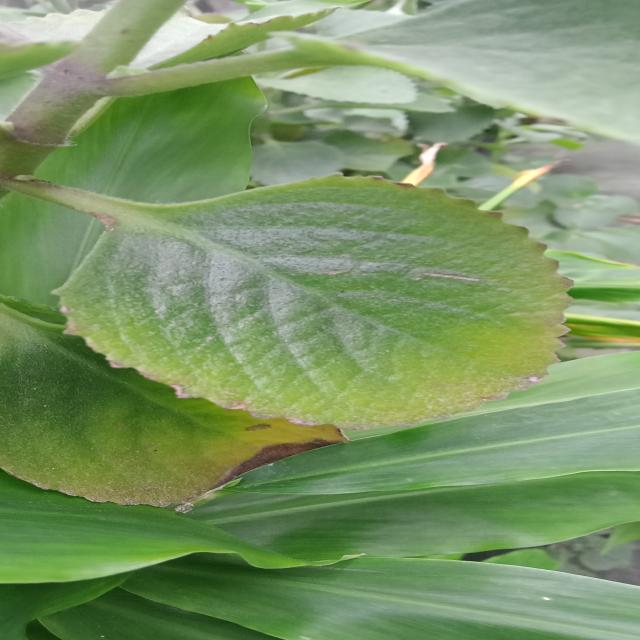Oregano: (25, 160, 616, 452)
